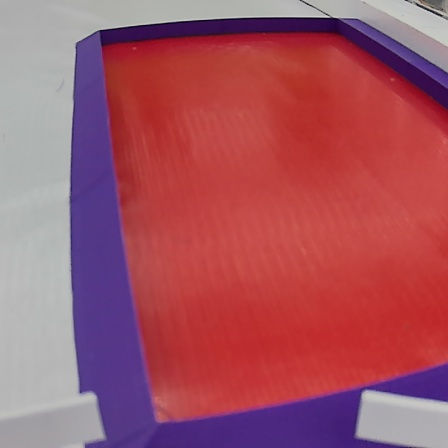red_aim: (69, 17, 448, 448)
